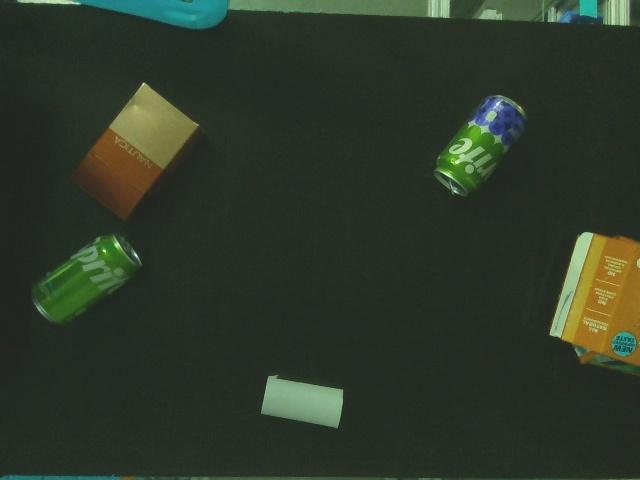cardboard: (66, 78, 206, 222), (548, 224, 640, 382), (259, 372, 347, 434)
metal: (30, 230, 143, 328), (430, 89, 528, 201)
